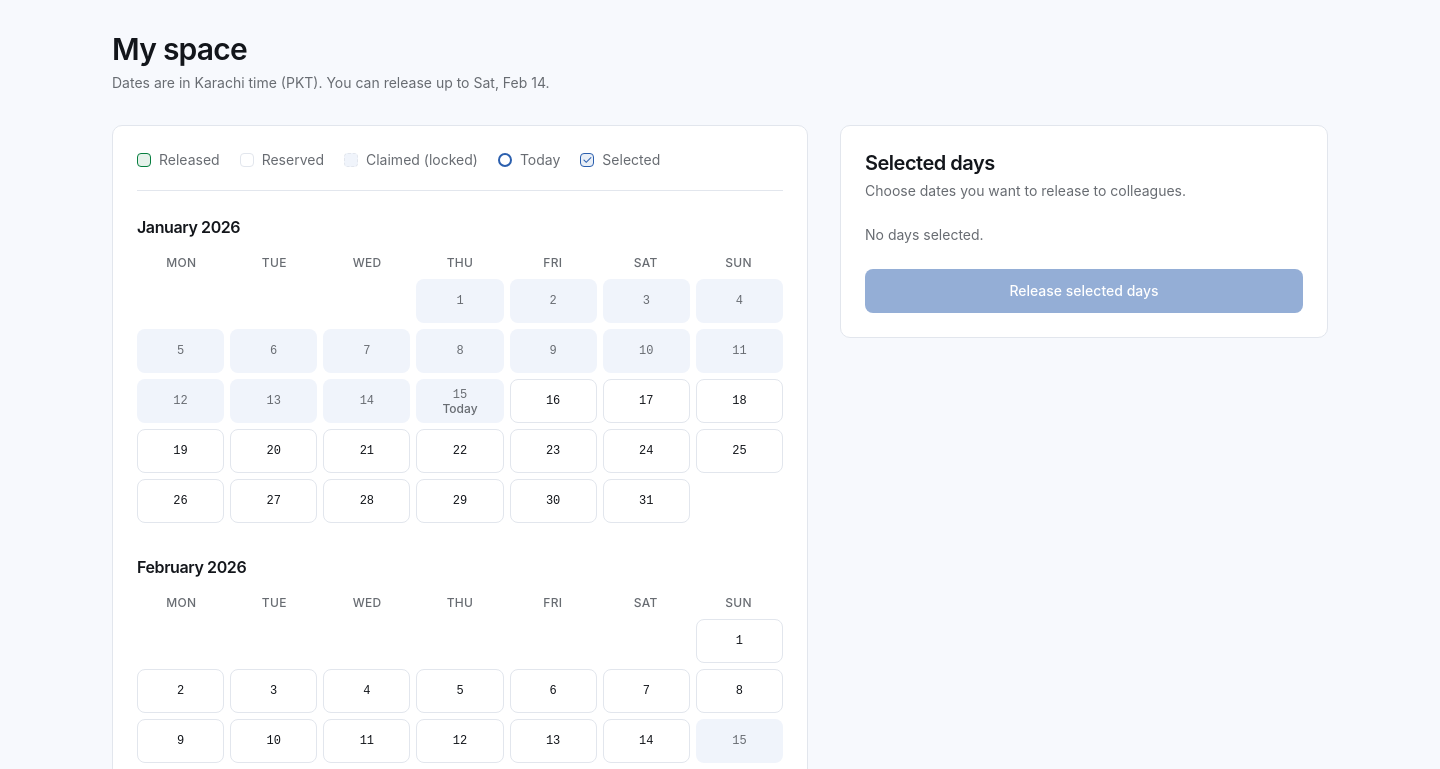
parking release and availability acceptance › AC_8_2_SendsEverySelectedDateAndDisplaysReturnedDatesAndStatuses
Step 1. Click the 1st button "17" → (646, 400), box [603,378,690,422]
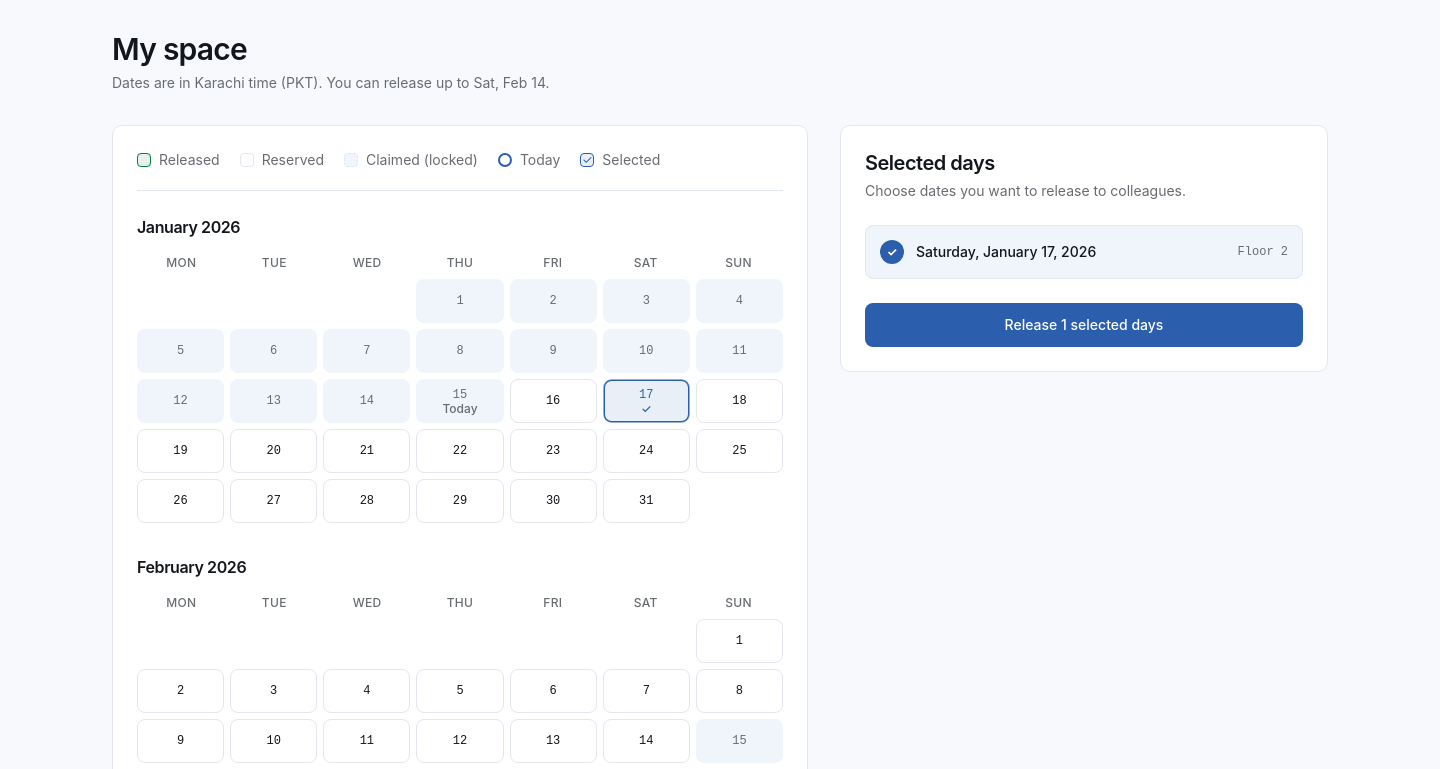
Step 2. Click the 1st button "18" → (739, 400), box [696,378,783,422]
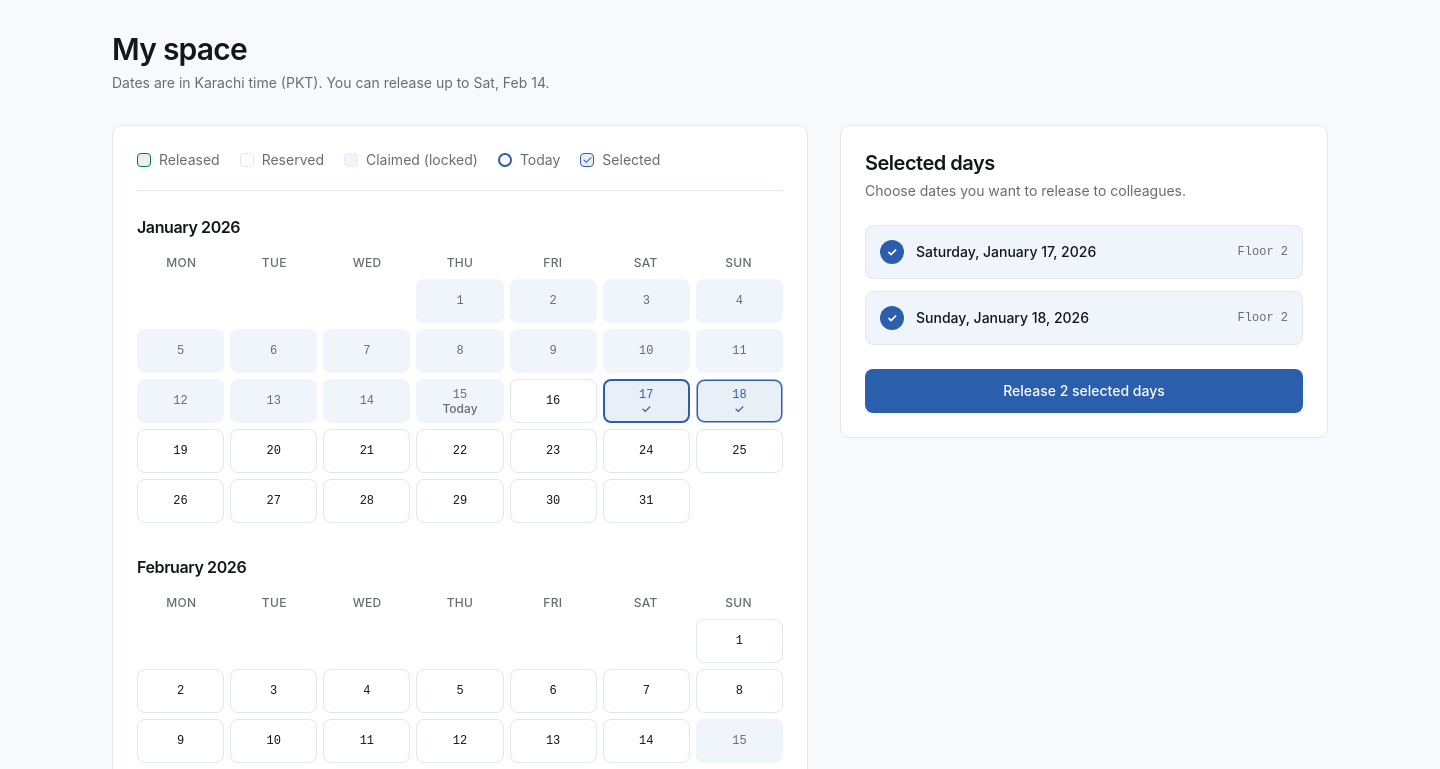
Step 3. Click the button "19" below "January 2026" → (181, 450), box [137,428,224,472]
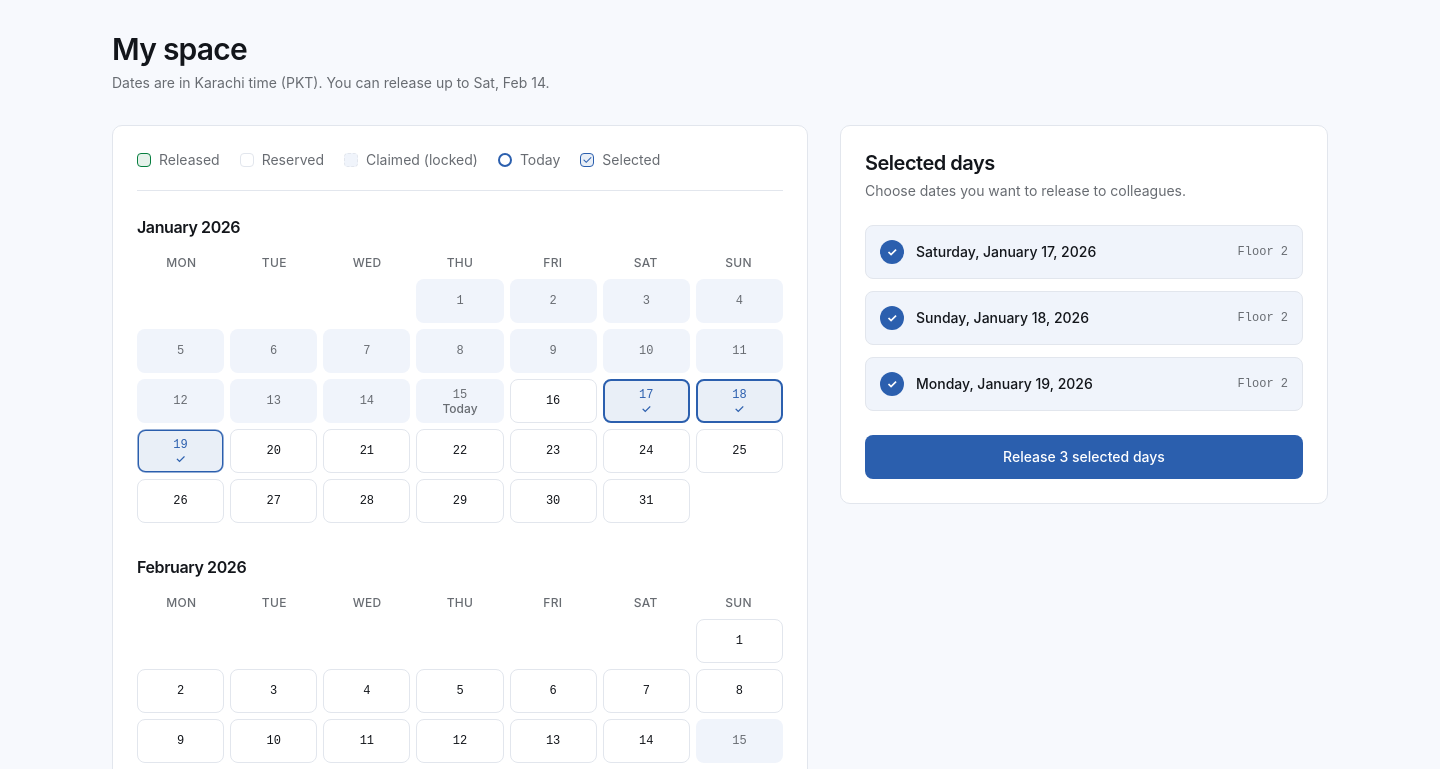
Step 4. Click the button "Release 3 selected days" → (1084, 457), box [865,435,1303,479]
(page scrolled)
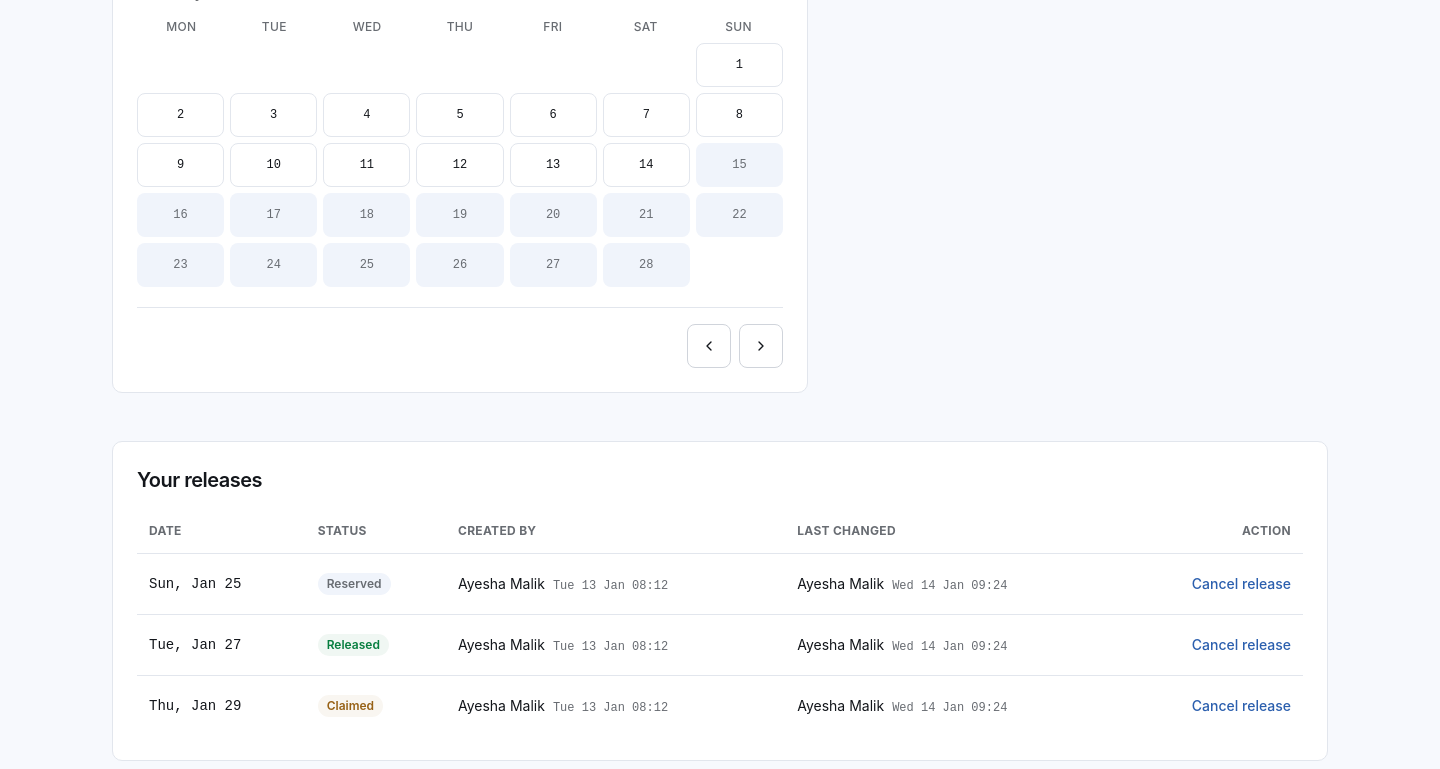
Check: the row that starts with "Sun, Jan 25" is shown, box [137,554,1303,614]
Check: the row that starts with "Tue, Jan 27" is shown, box [137,614,1303,676]
Check: the row that starts with "Thu, Jan 29" is shown, box [137,676,1303,736]
